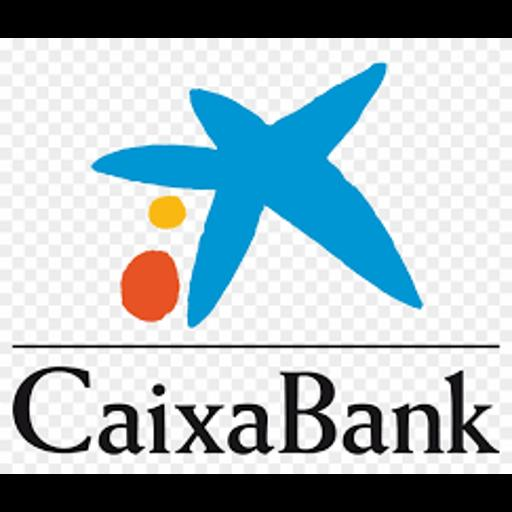CaixaBank: (0, 38, 512, 474)
